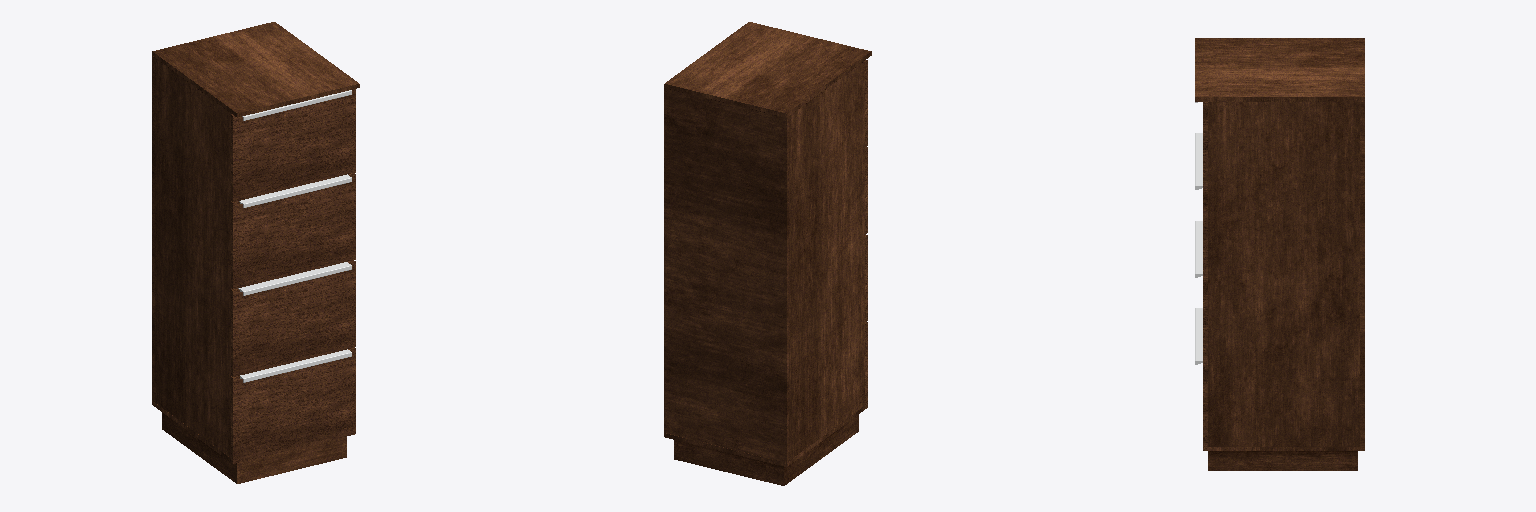
The picture shows the model from 3 angles: view 1: azimuth 30°, elevation 25°; view 2: azimuth 150°, elevation 25°; view 3: azimuth 270°, elevation 25°; orthographic projection.
Visible parts, largest first — view 1: Base, Drawer.2, Drawer.1, Drawer.3, Drawer; view 2: Base; view 3: Base, Drawer.2, Drawer.1, Drawer.3.
Part boxes in pixels (x1,y1,x2,y2): Base: (152, 22, 359, 483); Drawer.2: (231, 260, 355, 376); Drawer.1: (231, 173, 355, 288); Drawer.3: (231, 348, 355, 463); Drawer: (231, 89, 355, 201); Base: (664, 22, 871, 485); Base: (1195, 38, 1364, 470); Drawer.2: (1195, 221, 1207, 363); Drawer.1: (1195, 133, 1207, 275); Drawer.3: (1195, 308, 1207, 450).
Size of the model in its own units: 45.02 by 132 by 54.11.
Materials: 2 (2 with a texture image).